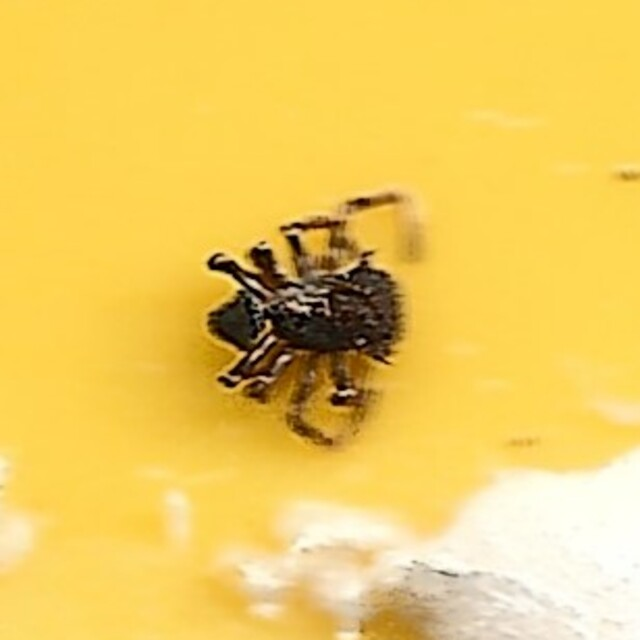Araneae: (208, 189, 432, 451)
